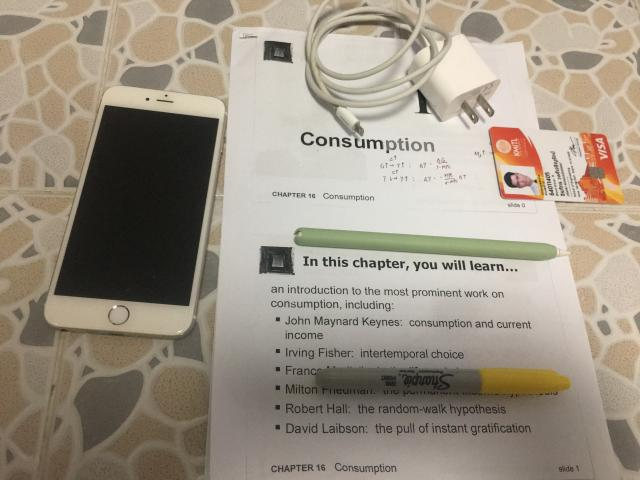Mobile phone: (45, 86, 226, 339)
Pen: (318, 368, 570, 395)
paper: (208, 28, 616, 479)
wire: (305, 0, 500, 126)
